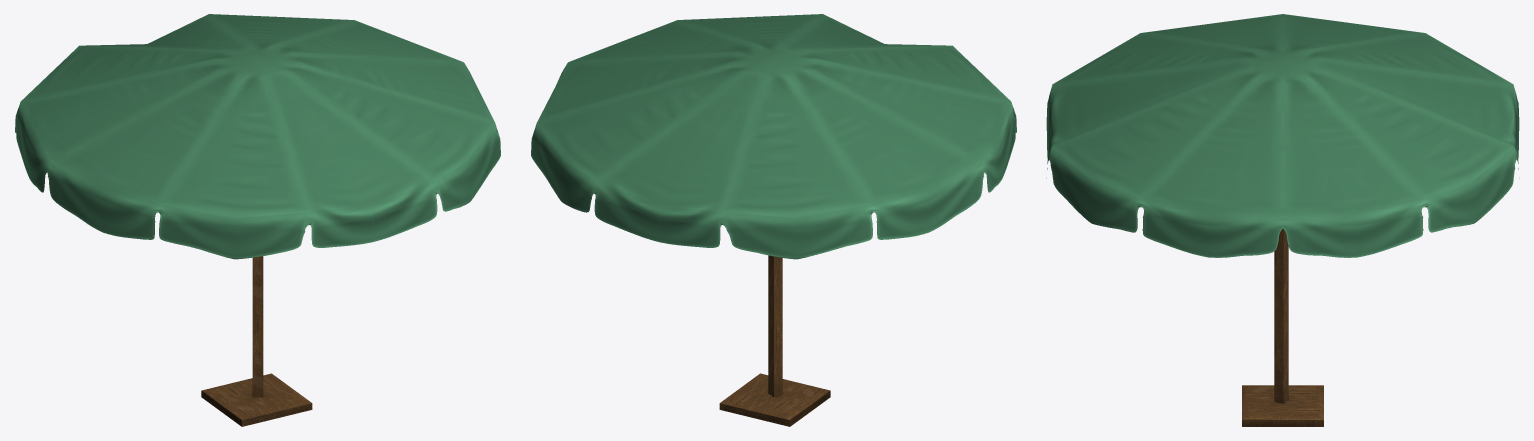
File: Vin_ArmbrelaCafe.fbx
The picture shows the model from 3 angles, left to right: view 1: azimuth 30°, elevation 25°; view 2: azimuth 150°, elevation 25°; view 3: azimuth 270°, elevation 25°; orthographic projection.
Visible parts, largest first — view 1: Vin_ArmbrelaCafe1, Vin_ArmbrelaCafe; view 2: Vin_ArmbrelaCafe1, Vin_ArmbrelaCafe; view 3: Vin_ArmbrelaCafe1, Vin_ArmbrelaCafe.
Boxes of the visible parts, box(x1,y1,x2,y2) form: Vin_ArmbrelaCafe1: box(15, 14, 500, 259); Vin_ArmbrelaCafe: box(53, 166, 312, 426); Vin_ArmbrelaCafe1: box(531, 14, 1016, 259); Vin_ArmbrelaCafe: box(719, 255, 830, 426); Vin_ArmbrelaCafe1: box(1046, 14, 1519, 257); Vin_ArmbrelaCafe: box(1242, 229, 1323, 426).
Size of the model in its own units: 403 by 310 by 383.
